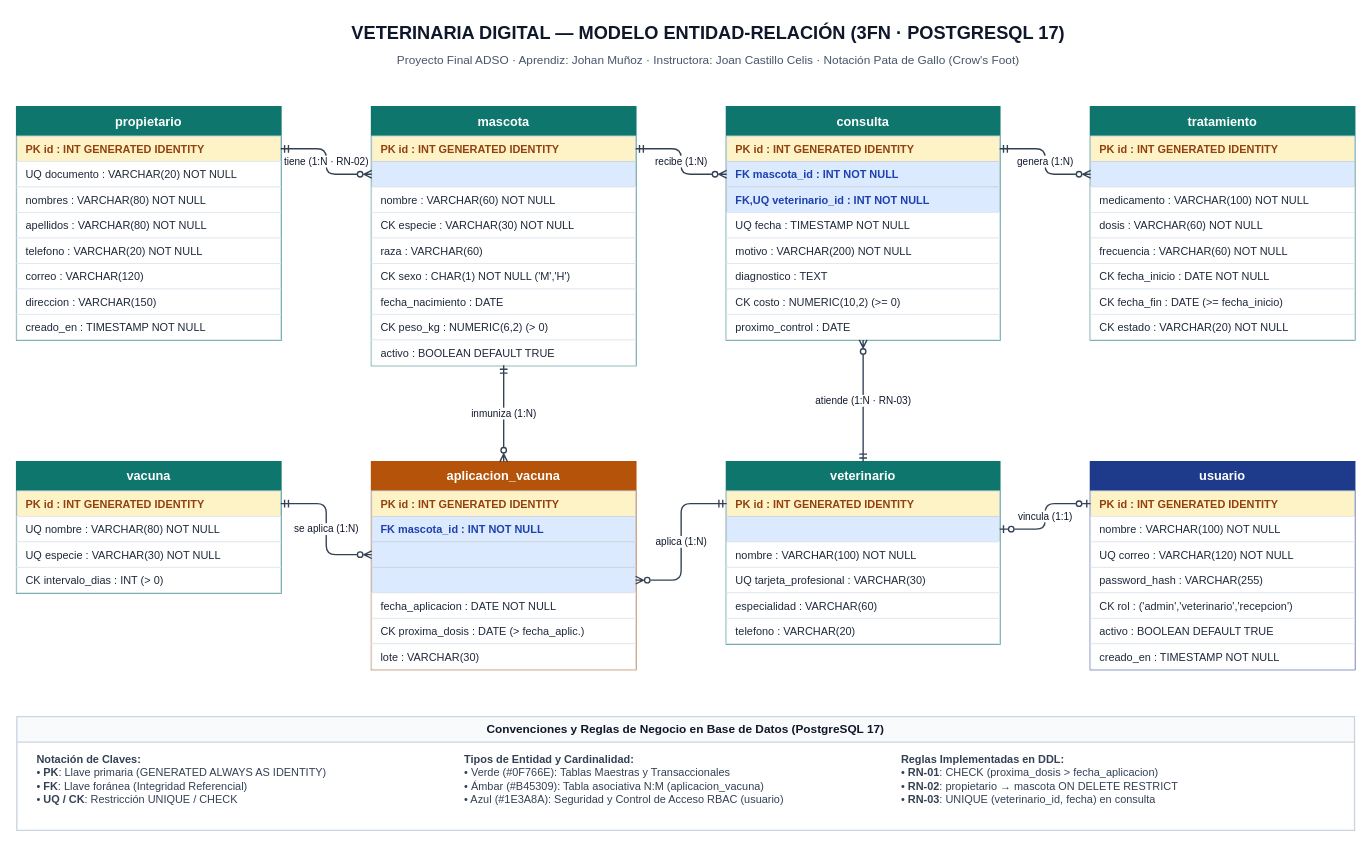
This 1370x846 diagram has some shape labels left out. Each missing label, with the centre of its shape:
"FK consulta_id : INT NOT NULL" goes at point 1222,174.
"FK propietario_id : INT NOT NULL" goes at point 503,174.
"FK vacuna_id : INT NOT NULL" goes at point 503,554.
"FK veterinario_id : INT NOT NULL" goes at point 503,579.
"FK,UQ usuario_id : INT (NULLABLE)" goes at point 863,529.
